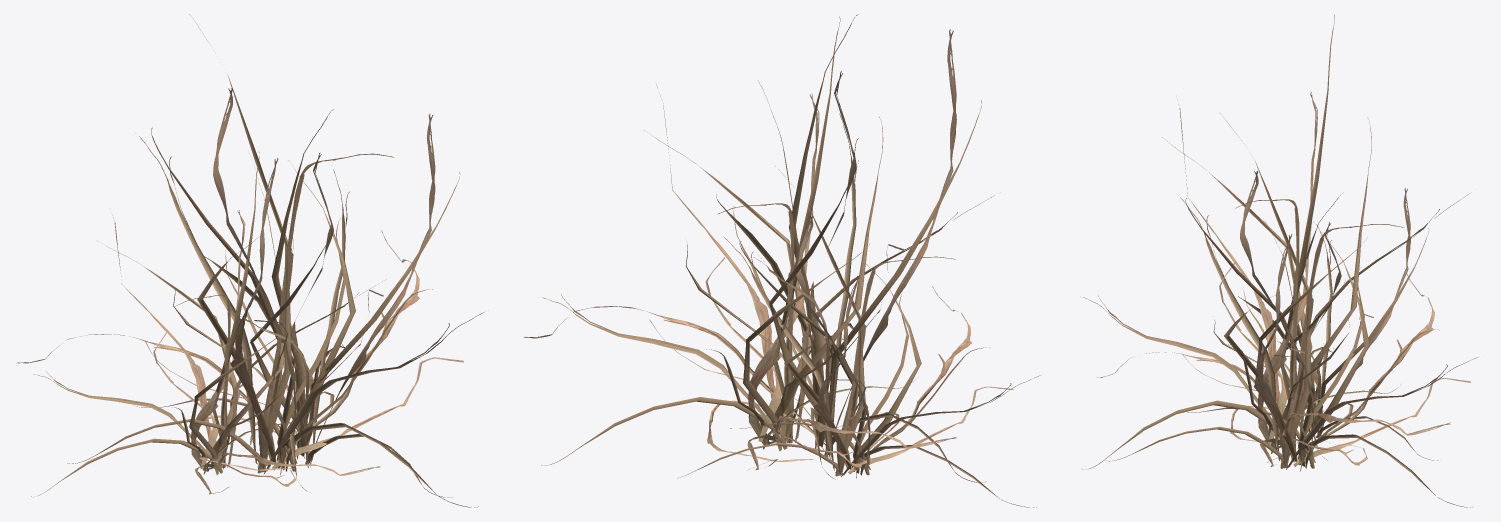
File: V10_DryTuft_A.fbx
3 renders of one model, left to right at view 1: azimuth 30°, elevation 25°; view 2: azimuth 150°, elevation 25°; view 3: azimuth 270°, elevation 25°, orthographic. The views are drawn at different scales.
Parts seen in each view (by area): view 1: V10_DryTuft_A; view 2: V10_DryTuft_A; view 3: V10_DryTuft_A.
Boxes of the visible parts, bbox=[...] form: V10_DryTuft_A: bbox=[16, 14, 484, 507]; V10_DryTuft_A: bbox=[524, 14, 1040, 507]; V10_DryTuft_A: bbox=[1080, 14, 1478, 507].
Bounding box in the file's own units: 19.72 × 20 × 17.87.
